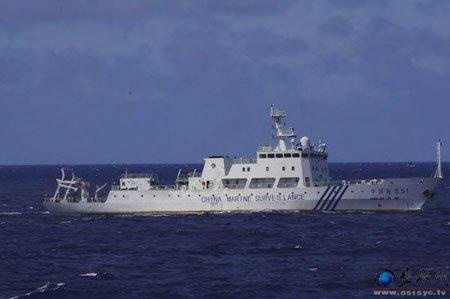warship: (46, 85, 443, 220)
